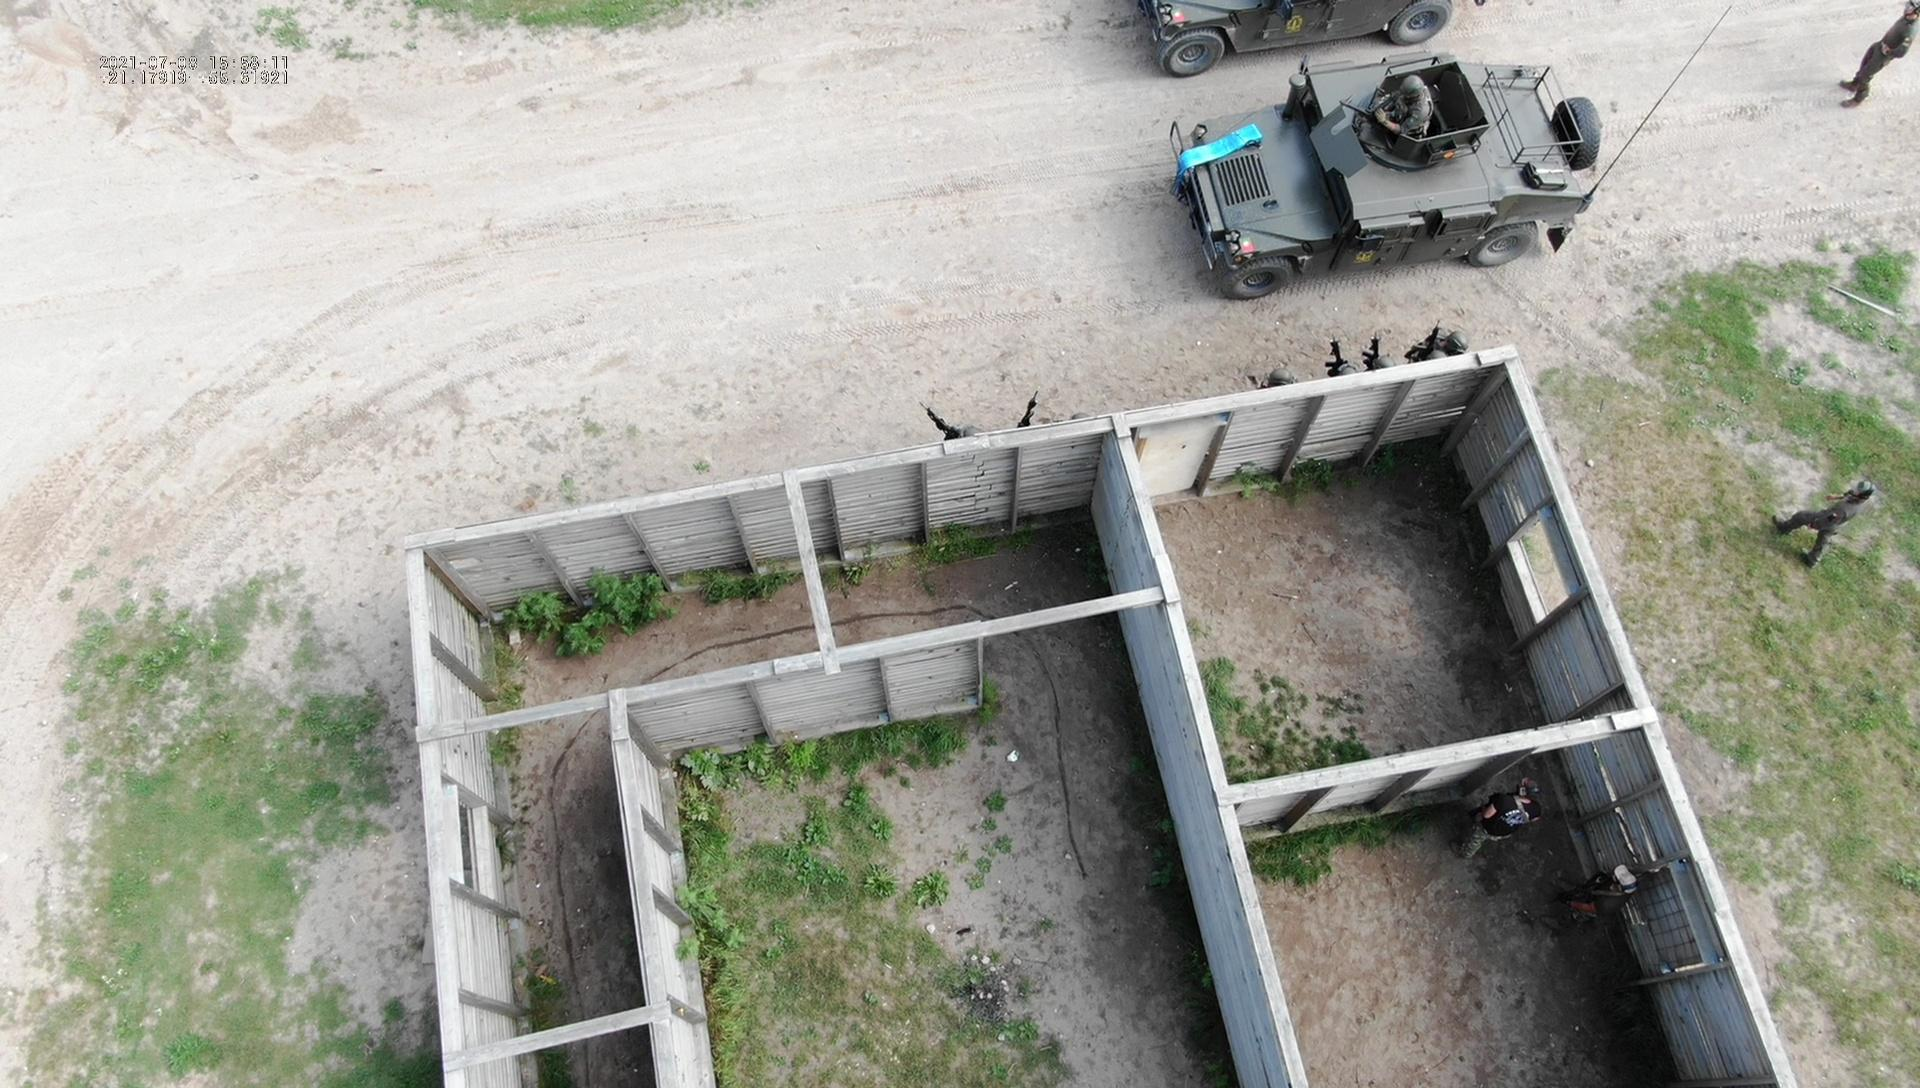Soldier: (1515, 860, 1635, 964), (1774, 476, 1878, 570), (1836, 0, 1920, 113), (1453, 773, 1535, 873), (1364, 76, 1440, 156), (1407, 317, 1470, 360)
